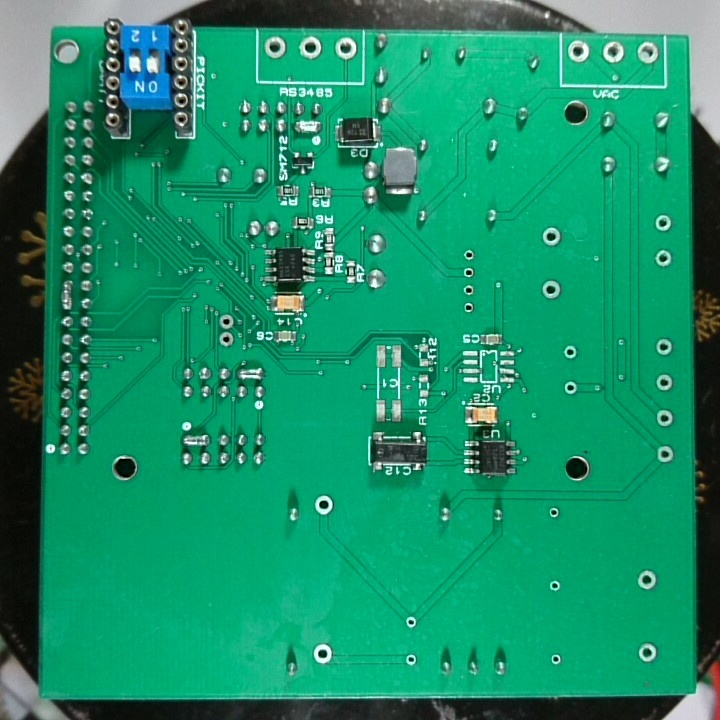F: (566, 38, 593, 66), (600, 39, 628, 66), (634, 40, 661, 68), (331, 35, 359, 62), (297, 35, 325, 60), (262, 35, 288, 61), (634, 640, 660, 666), (539, 278, 565, 304), (539, 223, 565, 249), (312, 492, 337, 518), (311, 640, 335, 666), (653, 210, 676, 237), (635, 569, 659, 592), (652, 247, 674, 271), (654, 372, 676, 395), (655, 443, 677, 465), (654, 408, 675, 431), (654, 337, 675, 359), (560, 343, 582, 364), (216, 311, 237, 331), (214, 331, 237, 348), (562, 379, 580, 400), (459, 280, 478, 299), (459, 263, 477, 281), (402, 651, 419, 669), (459, 299, 477, 316), (547, 577, 563, 596), (548, 651, 564, 669), (460, 247, 478, 263), (545, 505, 562, 520), (402, 615, 418, 630)
P: (291, 117, 325, 137), (234, 366, 268, 383), (59, 277, 75, 312), (180, 433, 211, 449)
